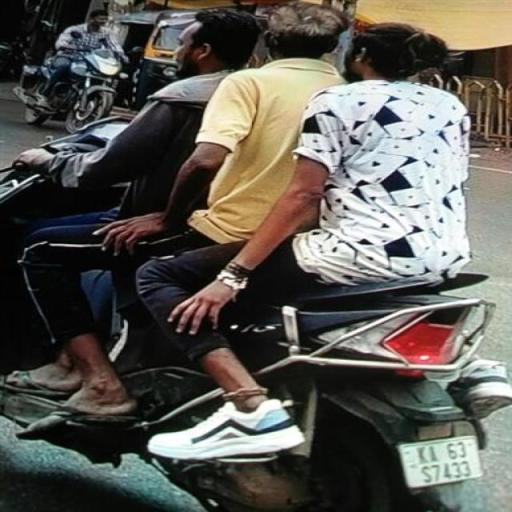tripple riding: (0, 1, 510, 275)
